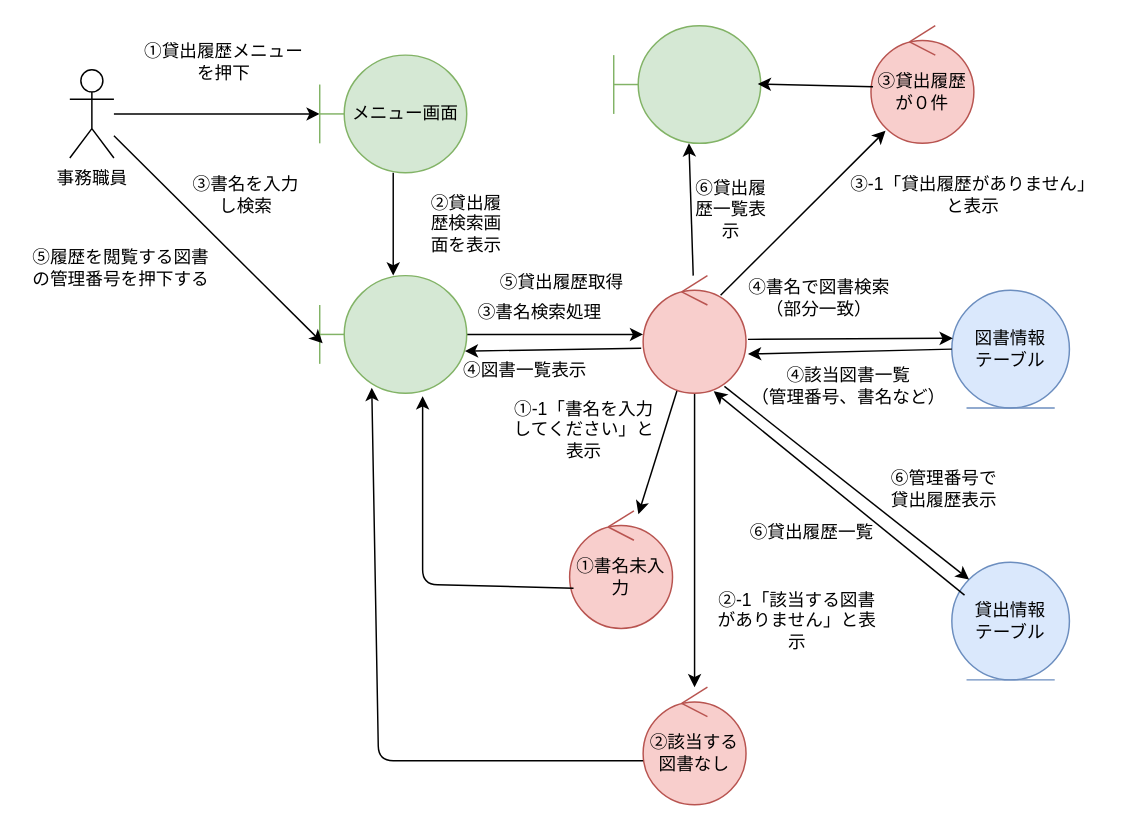
This 1123x831 diagram has some shape labels left out. Here are the shapes that lost their labels. From the top down, the box of each, then its label:
(612, 24, 761, 143): 貸出履歴一覧画面
(318, 274, 467, 393): 貸出履歴検索画面
(642, 274, 746, 393): 履歴閲覧処理
